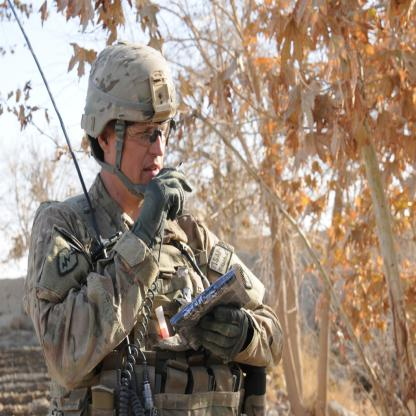Helmet: (78, 45, 173, 196)
